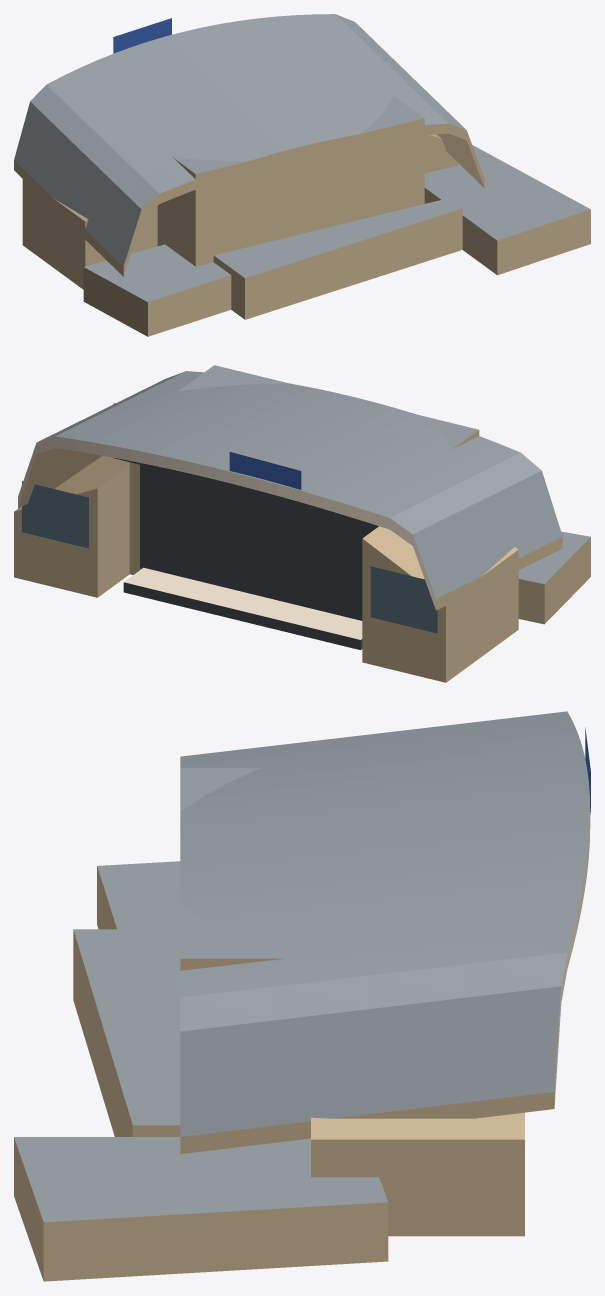
The model's file is sd-niccu-amphitheatre.glb.
3 renders of one model, top to bottom at view 1: azimuth 30°, elevation 25°; view 2: azimuth 150°, elevation 25°; view 3: azimuth 270°, elevation 25°, orthographic. The views are drawn at different scales.
Visible parts, largest first — view 1: North Island Credit Union Amphitheatre; view 2: North Island Credit Union Amphitheatre; view 3: North Island Credit Union Amphitheatre.
Part boxes in pixels (x1,y1,x2,y2): North Island Credit Union Amphitheatre: [14, 14, 590, 336]; North Island Credit Union Amphitheatre: [14, 365, 590, 682]; North Island Credit Union Amphitheatre: [14, 711, 590, 1281].
Bounding box in the file's own units: 73 × 27.29 × 48.57.
